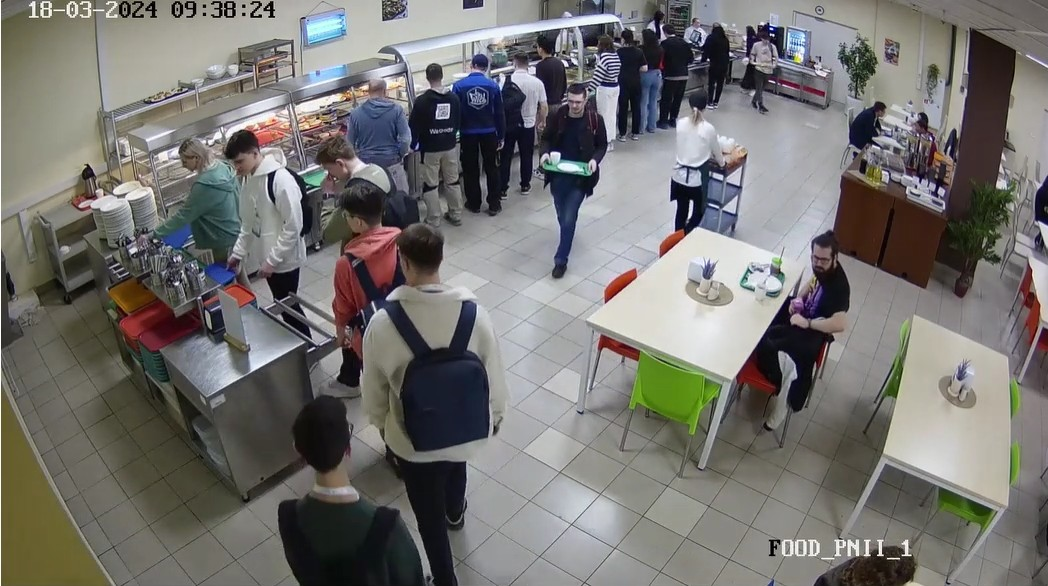Na_Kasse: (747, 27, 777, 115), (701, 16, 728, 111)
Ne_v_Ocheredi: (380, 228, 478, 586), (251, 401, 434, 586), (529, 88, 608, 277), (330, 192, 414, 346)
Personal: (670, 99, 714, 239), (481, 26, 515, 60), (554, 7, 583, 40), (684, 12, 701, 38)
Vybiraet: (212, 134, 311, 315), (157, 134, 232, 253), (456, 47, 500, 214), (416, 61, 457, 229), (500, 49, 541, 196), (346, 70, 404, 145), (315, 148, 392, 200), (593, 37, 621, 146), (636, 25, 664, 134), (616, 30, 641, 143), (663, 23, 687, 126), (526, 44, 565, 104)
Za_Stolom: (784, 234, 855, 346), (799, 534, 911, 586), (839, 101, 890, 166), (1024, 158, 1048, 250), (909, 110, 941, 149)
